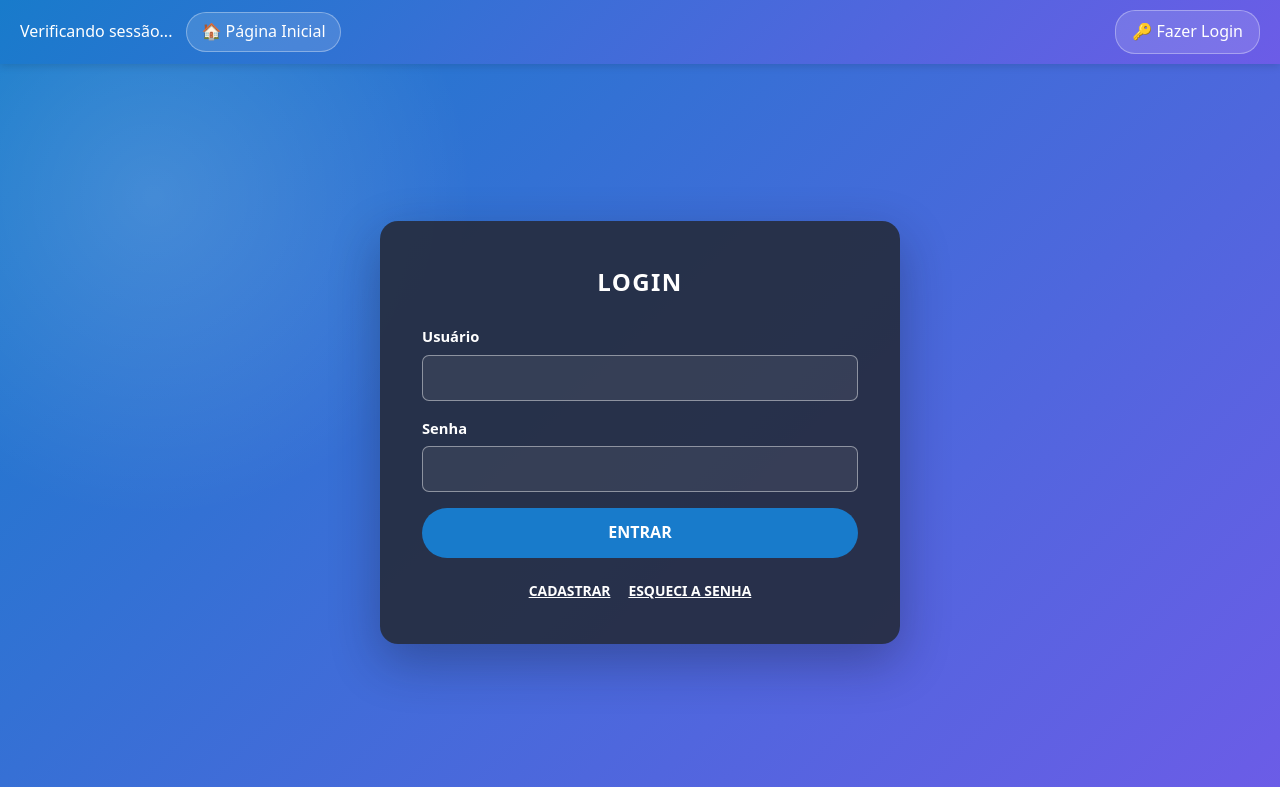
Test: authentication screens › submits valid credentials and updates the public header after login
Type "aluno" into the field labelled "Usuário".
click(640, 378); type("aluno")  # box left=422, top=355, right=858, bottom=401
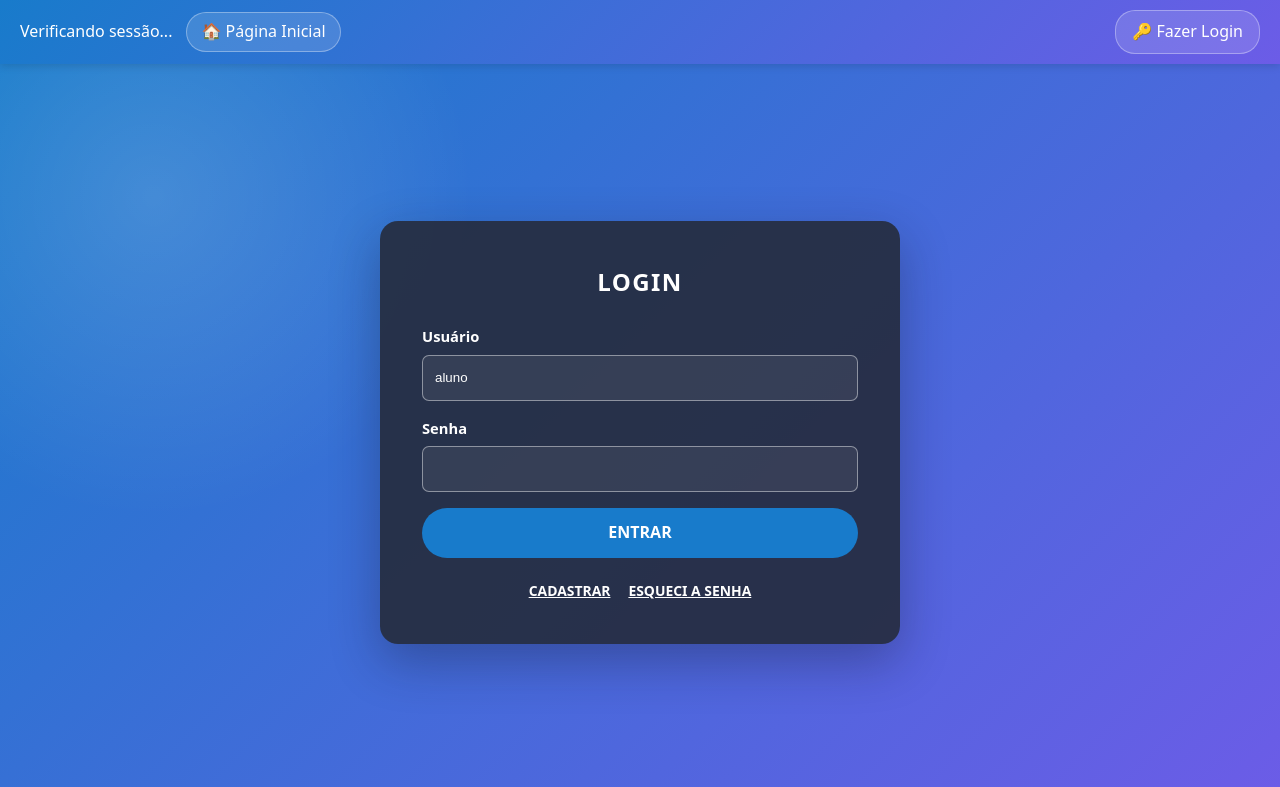
Type "senha123" into the password field labelled "Senha".
click(640, 469); type("senha123")  # box left=422, top=446, right=858, bottom=492
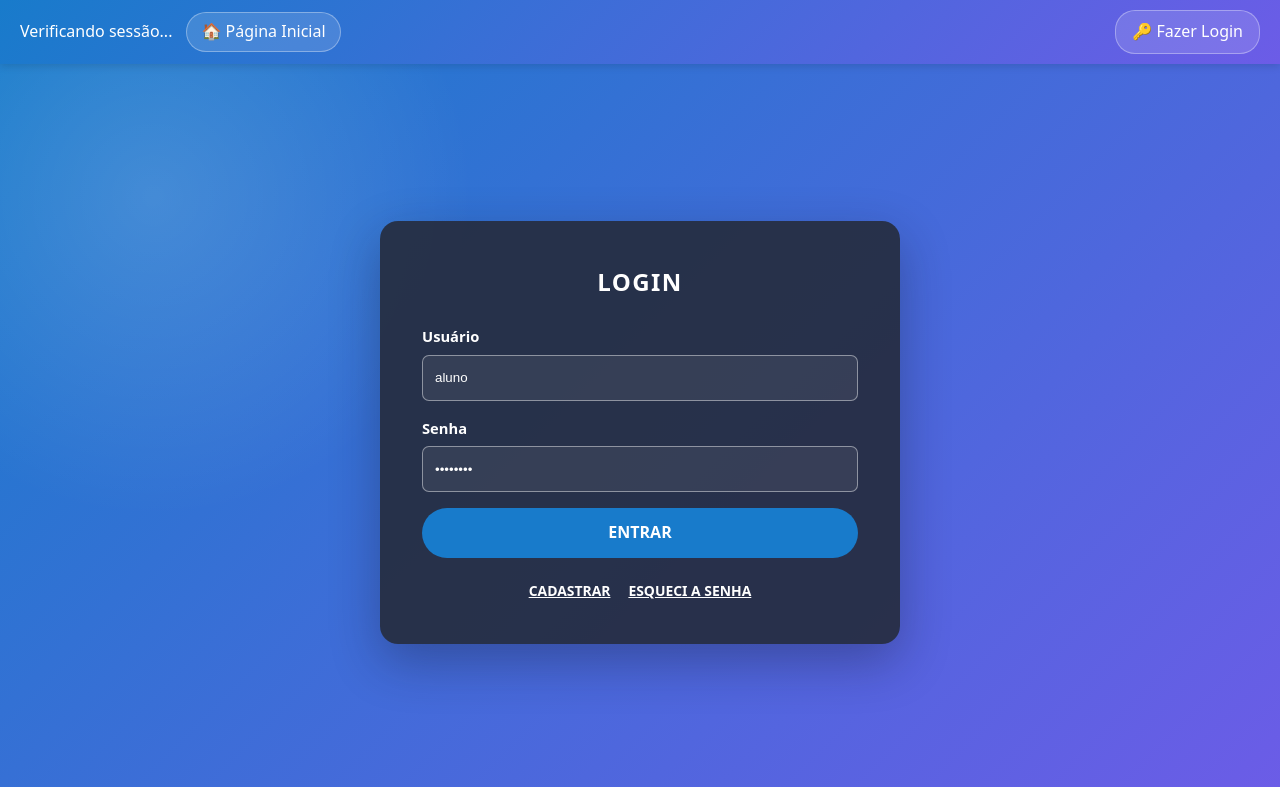
Click the button "ENTRAR".
click(640, 533)  # box left=422, top=508, right=858, bottom=558
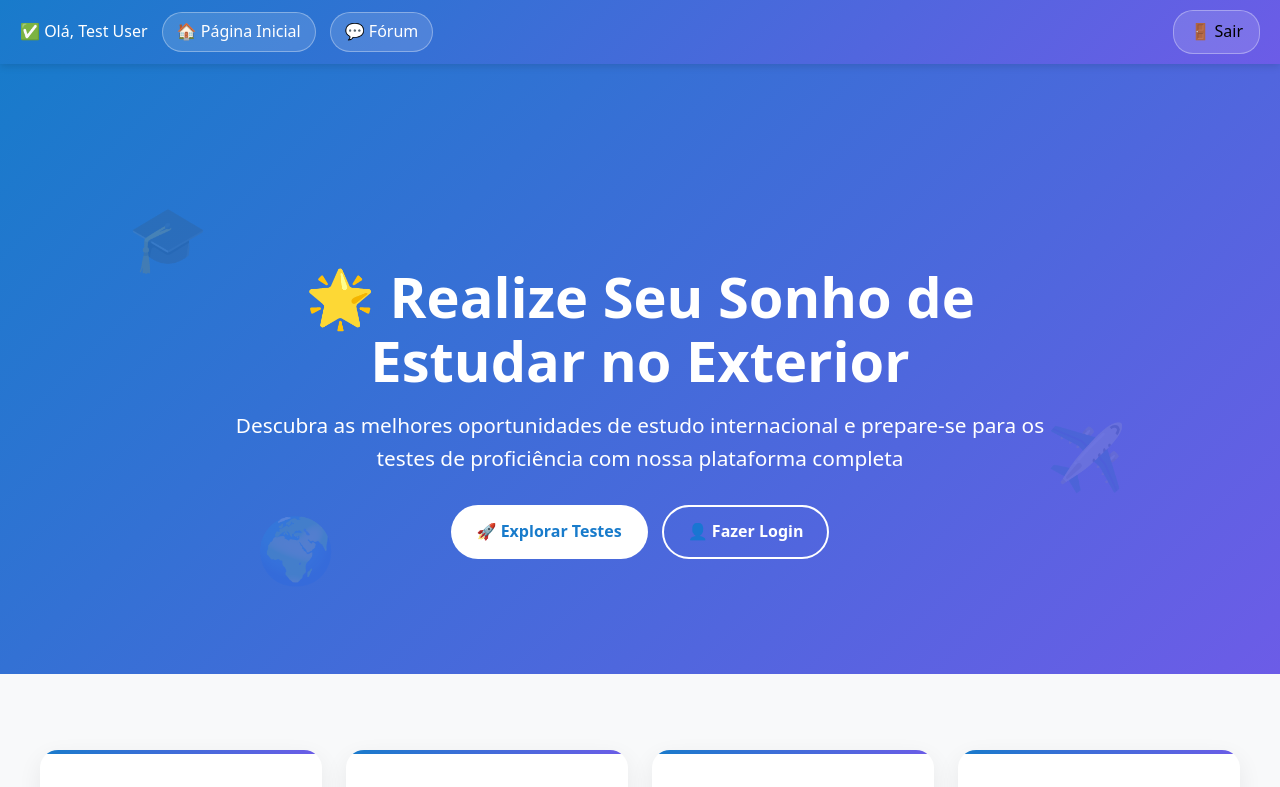
Check: the text "✅ Olá, Test User" is shown, box left=20, top=19, right=148, bottom=45
